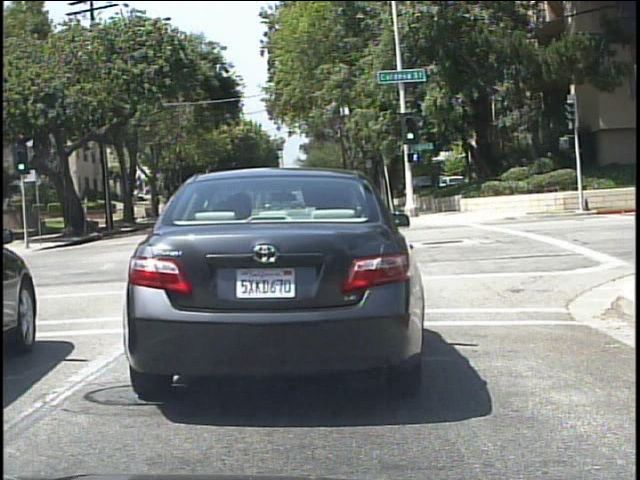car: (129, 166, 421, 400)
